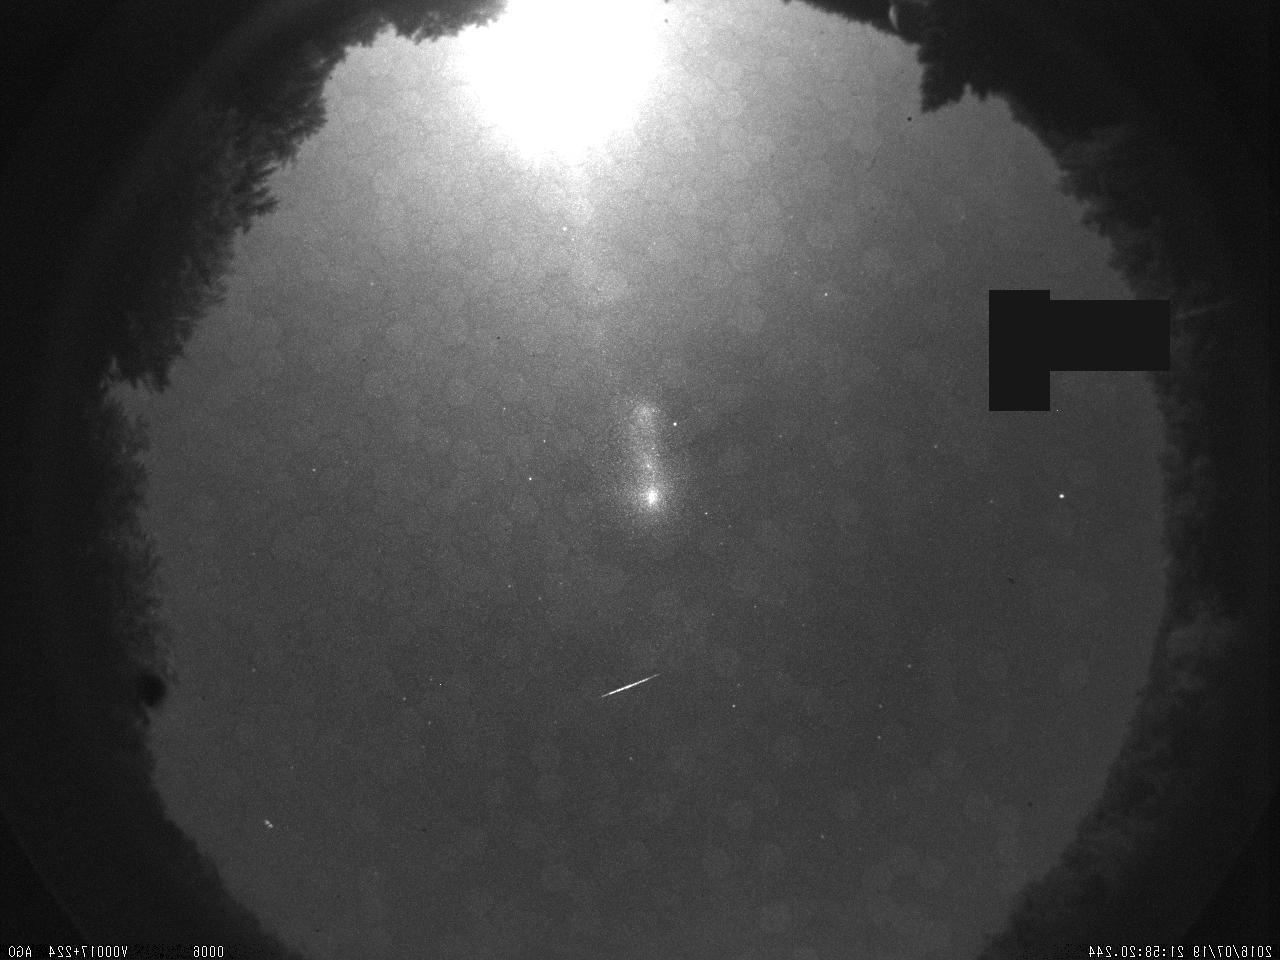meteor: (578, 644, 693, 725)
